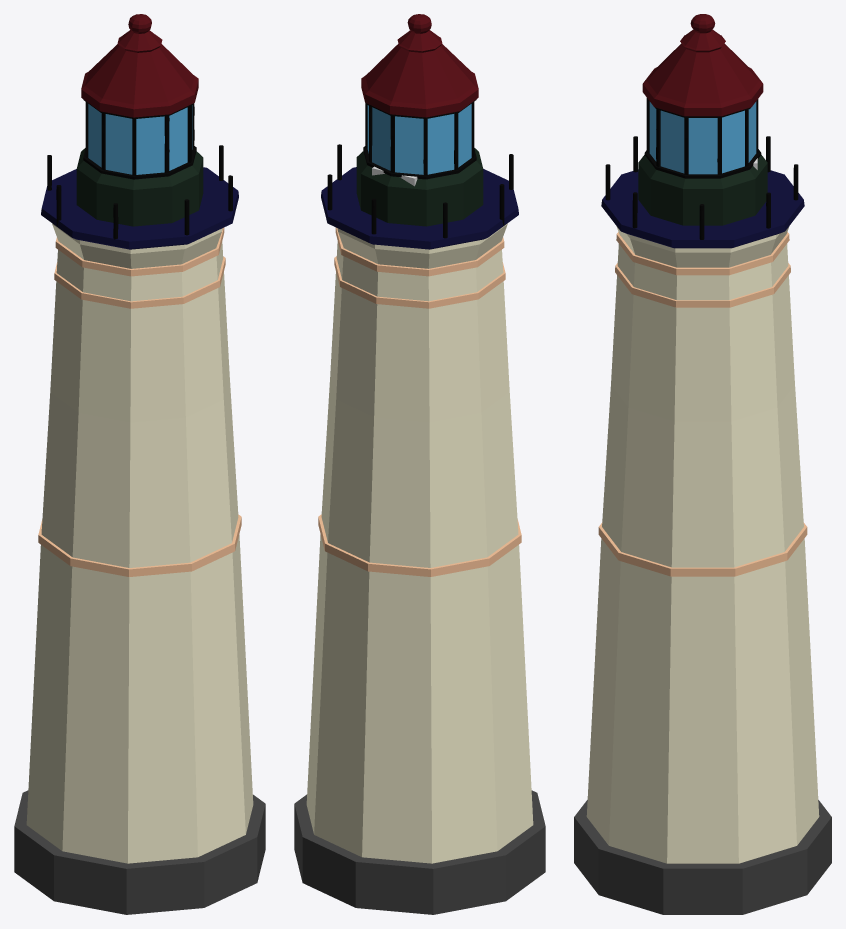
Rendered from Lighthouse.fbx.
The picture shows the model from 3 angles, left to right: view 1: azimuth 30°, elevation 25°; view 2: azimuth 150°, elevation 25°; view 3: azimuth 270°, elevation 25°; orthographic projection.
Visible parts, largest first — view 1: MainBody, Cylinder, Roof, TopFloor, BeaconBase, Glass, MidBodyRing, MidRing, TopRing, TopCap, Cylinder.015; view 2: MainBody, Cylinder, Roof, TopFloor, BeaconBase, Glass, MidBodyRing, MidRing, TopRing, TopCap, Cylinder.015; view 3: MainBody, Cylinder, TopFloor, Roof, BeaconBase, Glass, MidBodyRing, TopRing, MidRing, TopCap, Cylinder.015.
Boxes of the visible parts, x1,y1,x2,y2 form: MainBody: (26, 223, 253, 863); Cylinder: (14, 790, 265, 914); Roof: (81, 44, 198, 117); TopFloor: (41, 167, 238, 249); BeaconBase: (76, 148, 203, 226); Glass: (88, 104, 192, 174); MidBodyRing: (38, 514, 241, 576); MidRing: (54, 256, 225, 308); TopRing: (55, 227, 224, 276); TopCap: (117, 30, 162, 52); Cylinder.015: (83, 146, 196, 179); MainBody: (306, 223, 533, 863); Cylinder: (294, 790, 545, 914); Roof: (361, 44, 478, 117); TopFloor: (321, 167, 518, 249); BeaconBase: (356, 148, 483, 226); Glass: (367, 104, 471, 174); MidBodyRing: (318, 514, 521, 576); MidRing: (334, 256, 505, 308); TopRing: (335, 227, 504, 276); TopCap: (397, 30, 442, 52); Cylinder.015: (363, 146, 476, 179); MainBody: (586, 226, 819, 863); Cylinder: (574, 800, 831, 914); TopFloor: (601, 169, 804, 248); Roof: (642, 43, 763, 116); BeaconBase: (638, 155, 767, 225); Glass: (649, 101, 756, 174); MidBodyRing: (598, 522, 807, 576); TopRing: (616, 232, 789, 275); MidRing: (615, 263, 790, 307); TopCap: (680, 29, 725, 52); Cylinder.015: (644, 149, 761, 178).
Bounding box in the file's own units: 1672 × 6381 × 1758.
